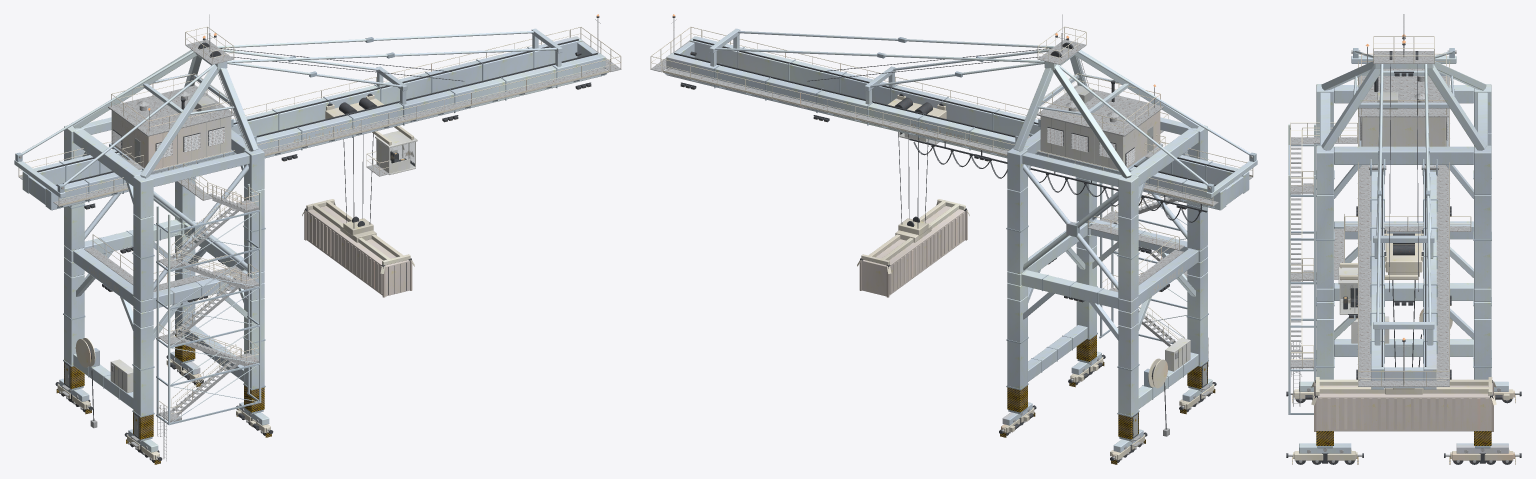
The model's file is crane.glb.
3 views of the same model, side by side, from view 1: azimuth 30°, elevation 25°; view 2: azimuth 150°, elevation 25°; view 3: azimuth 270°, elevation 25° (orthographic). The views are drawn at different scales.
Visible parts, largest first — view 1: crane-assembly, crane-spreader; view 2: crane-assembly, crane-spreader; view 3: crane-assembly, crane-spreader.
Boxes of the visible parts, <box> form: crane-assembly: <box>14,14,621,464</box>; crane-spreader: <box>302,133,414,297</box>; crane-assembly: <box>650,14,1257,464</box>; crane-spreader: <box>857,132,969,297</box>; crane-assembly: <box>1286,14,1521,464</box>; crane-spreader: <box>1311,280,1496,431</box>.
Size of the model in its own units: 50.9 by 33.64 by 16.12.
Materials: 13 (11 with a texture image).
